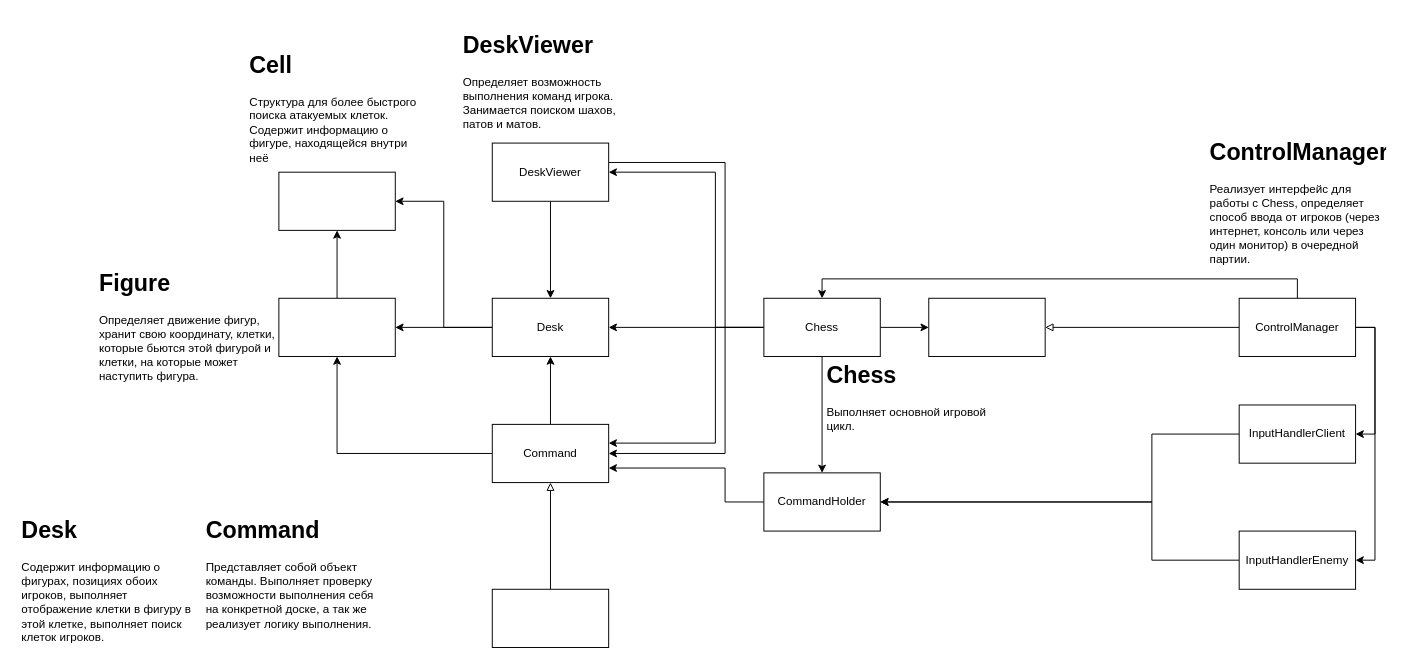
Image size: 1406x664. Some labels were removed from this diagram. The centre of each missing label's shape, as x and y in pixels:
"Cell" belongs at (336,200).
"CertainCommand" belongs at (550,617).
"Figure" belongs at (336,326).
"Presenter" belongs at (986,326).
